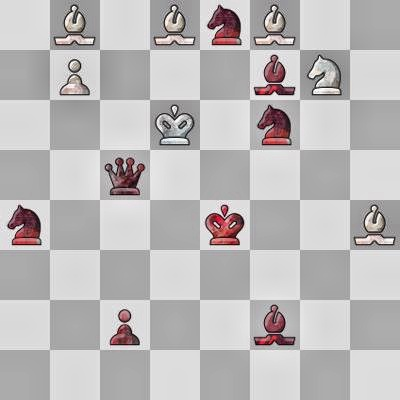black-bishop: (250, 50, 300, 100), (250, 300, 300, 350)
black-king: (200, 200, 250, 250)
black-knight: (200, 0, 250, 50), (250, 100, 300, 150), (0, 200, 50, 250)
black-pawn: (100, 300, 150, 350)
black-queen: (100, 150, 150, 200)
white-bishop: (50, 0, 100, 50), (150, 0, 200, 50), (250, 0, 300, 50), (350, 200, 400, 250)
white-king: (150, 100, 200, 150)
white-knight: (300, 50, 350, 100)
white-pawn: (50, 50, 100, 100)
